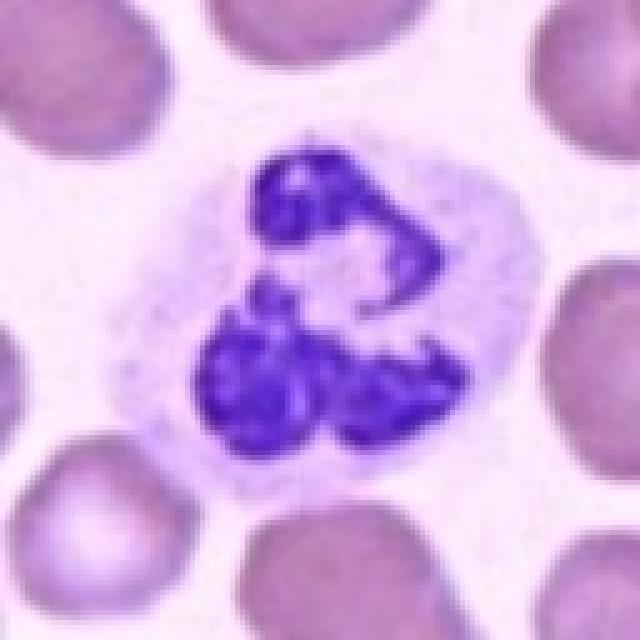neutro: (22, 134, 528, 541)
